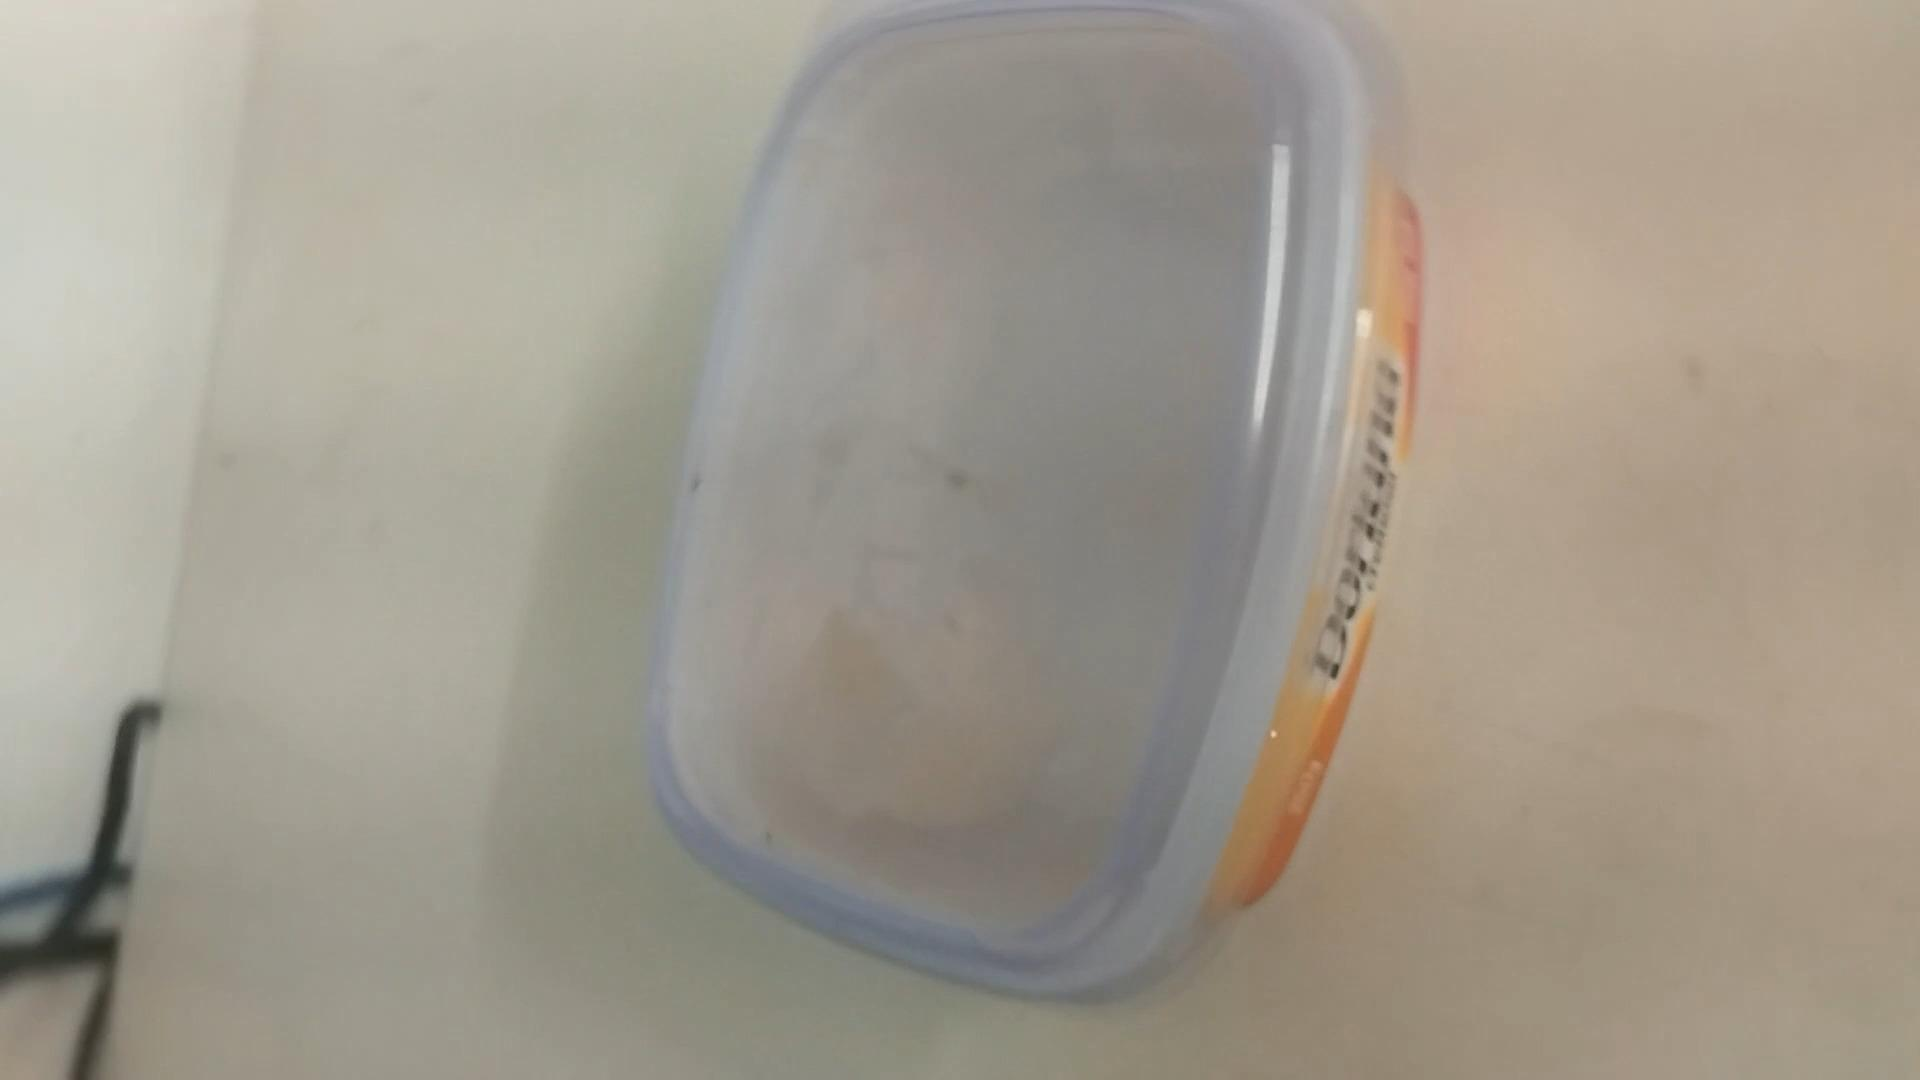butter: (645, 11, 1390, 1009)
